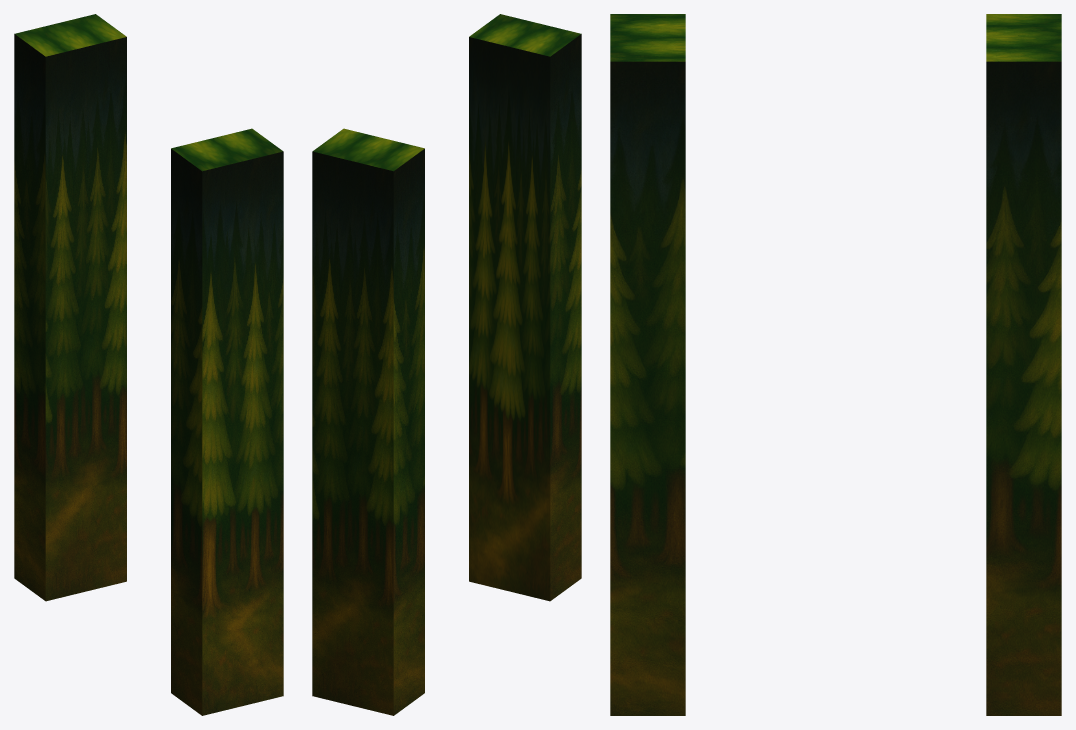
The model's file is froest_door.fbx.
3 views of the same model, side by side, from view 1: azimuth 30°, elevation 25°; view 2: azimuth 150°, elevation 25°; view 3: azimuth 270°, elevation 25° (orthographic). The views are drawn at different scales.
Visible parts, largest first — view 1: froest_wall_door; view 2: froest_wall_door; view 3: froest_wall_door.
Boxes of the visible parts, box(x1,y1,x2,y2) form: froest_wall_door: box(14, 14, 283, 715); froest_wall_door: box(312, 14, 581, 715); froest_wall_door: box(610, 14, 1061, 715).
Size of the model in its own units: 50 by 320 by 200.
Materials: 2 (2 with a texture image).
